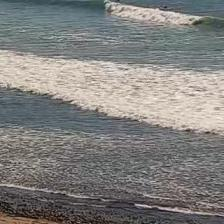surfer: (115, 0, 122, 4)
